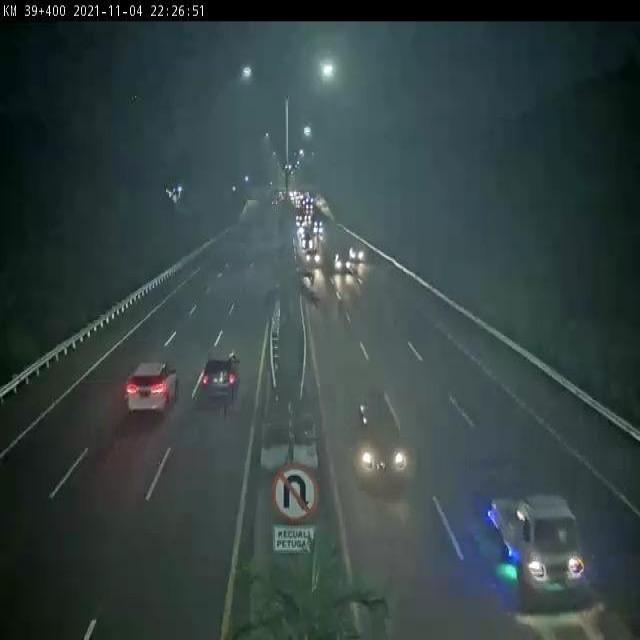car: (353, 398, 405, 478), (125, 362, 179, 414), (201, 349, 241, 396)
truck-m-: (487, 489, 581, 600)
